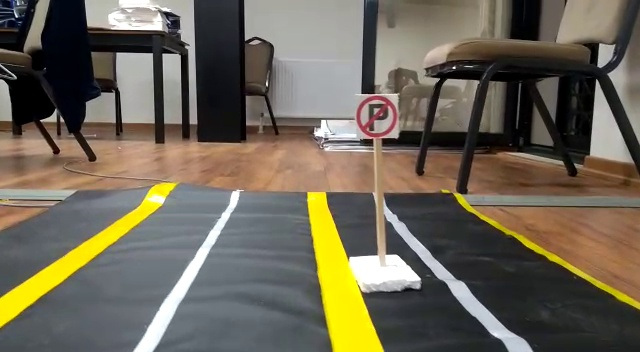park_yapilmaz: (354, 92, 398, 138)
